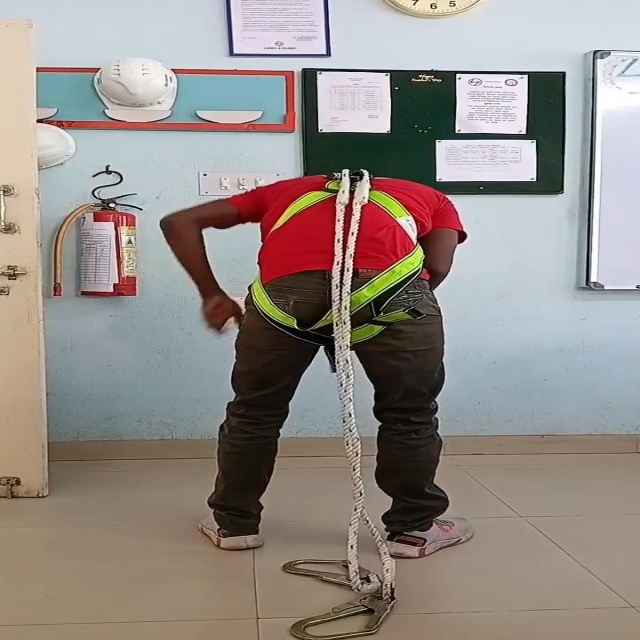Arnes_seguridad: (197, 164, 454, 365)
